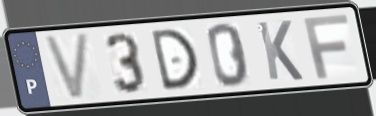0: (206, 20, 250, 90)
3: (103, 31, 148, 95)
D: (148, 26, 201, 94)
F: (300, 12, 351, 81)
K: (254, 18, 306, 83)
V: (40, 30, 93, 104)
